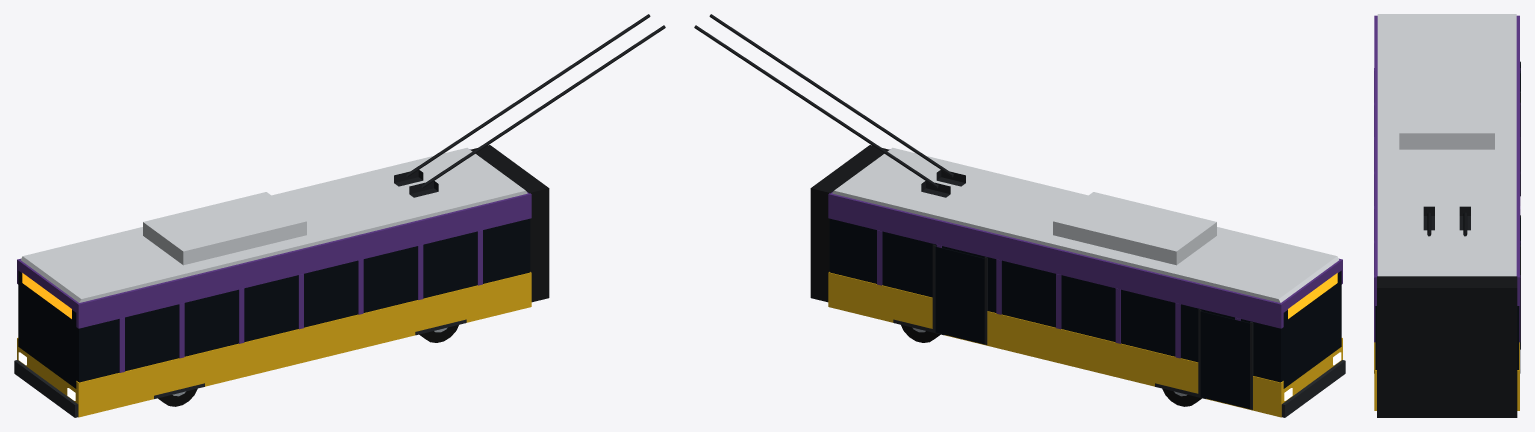
Rendered from trolley60f.glb.
3 renders of one model, left to right at view 1: azimuth 30°, elevation 25°; view 2: azimuth 150°, elevation 25°; view 3: azimuth 270°, elevation 25°, orthographic. The views are drawn at different scales.
Parts seen in each view (by area): view 1: bus60-front; view 2: bus60-front; view 3: bus60-front.
Boxes of the visible parts, x1,y1,x2,y2 form: bus60-front: (14,14,665,417); bus60-front: (694,14,1345,417); bus60-front: (1374,14,1520,417).
Bounding box in the file's own units: 14.89 × 5.57 × 2.61.
